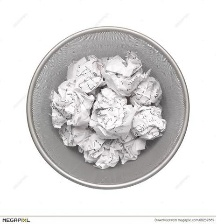book: (45, 47, 169, 172)
